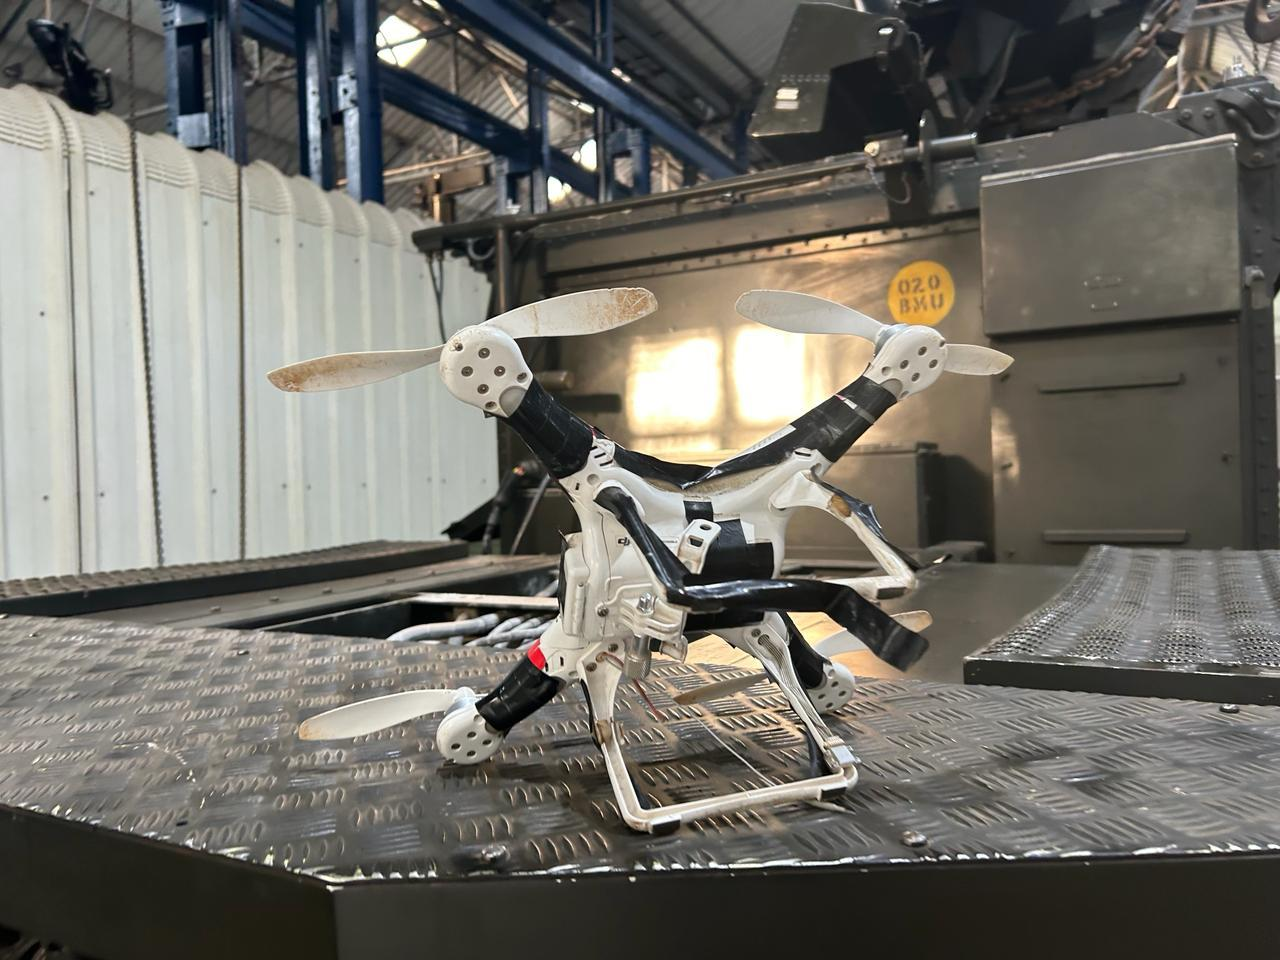drone: (188, 262, 1034, 863)
